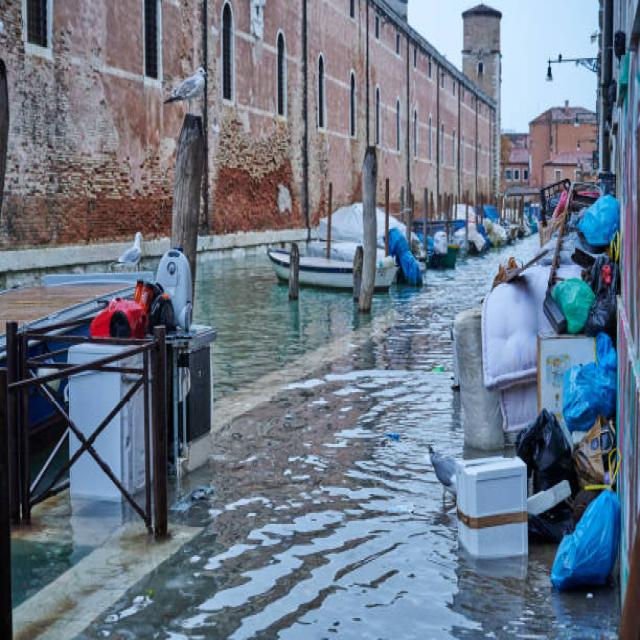trash: (455, 200, 618, 492), (379, 201, 440, 276)
